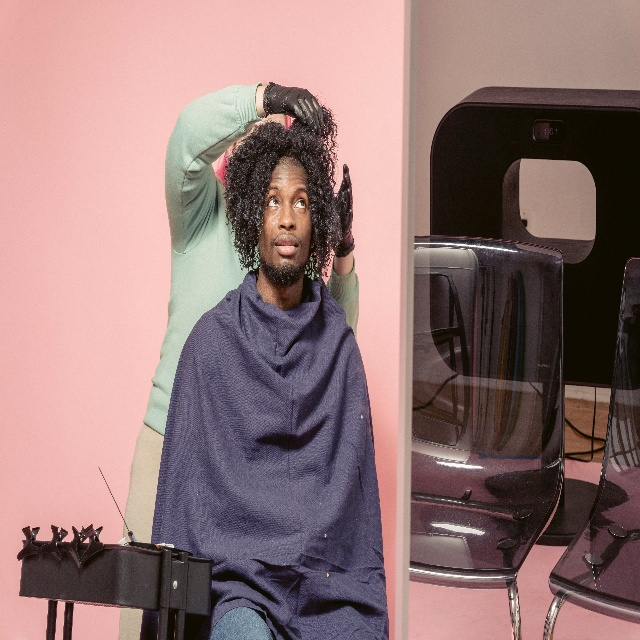Guantes: (263, 80, 324, 136), (335, 163, 355, 258)
